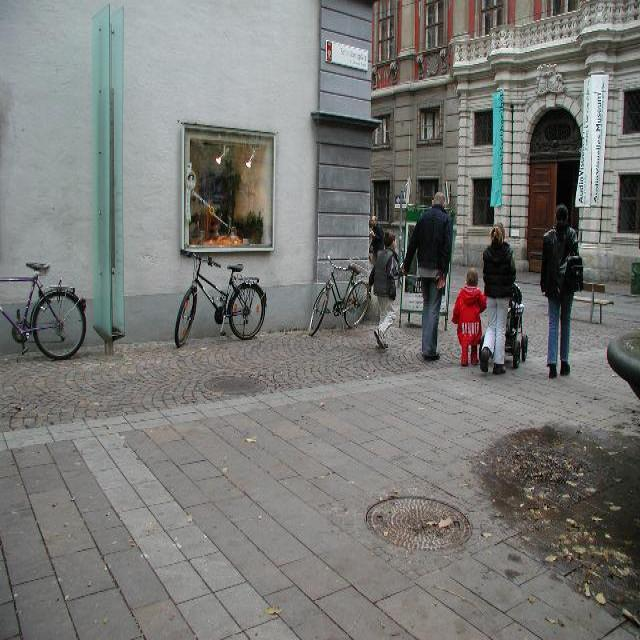non-fight: (406, 181, 457, 363), (538, 203, 582, 380), (478, 217, 522, 375)
